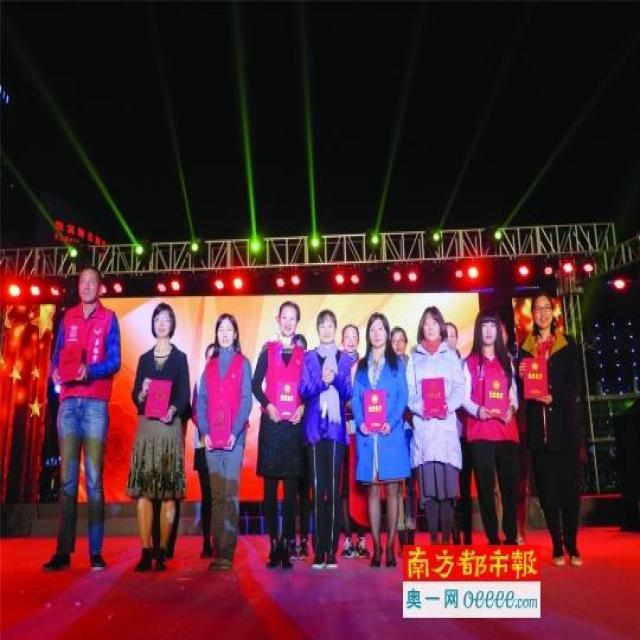non-fight: (41, 263, 121, 573), (127, 302, 194, 572), (349, 314, 414, 574), (460, 309, 527, 559), (253, 300, 314, 570), (192, 309, 254, 569)
